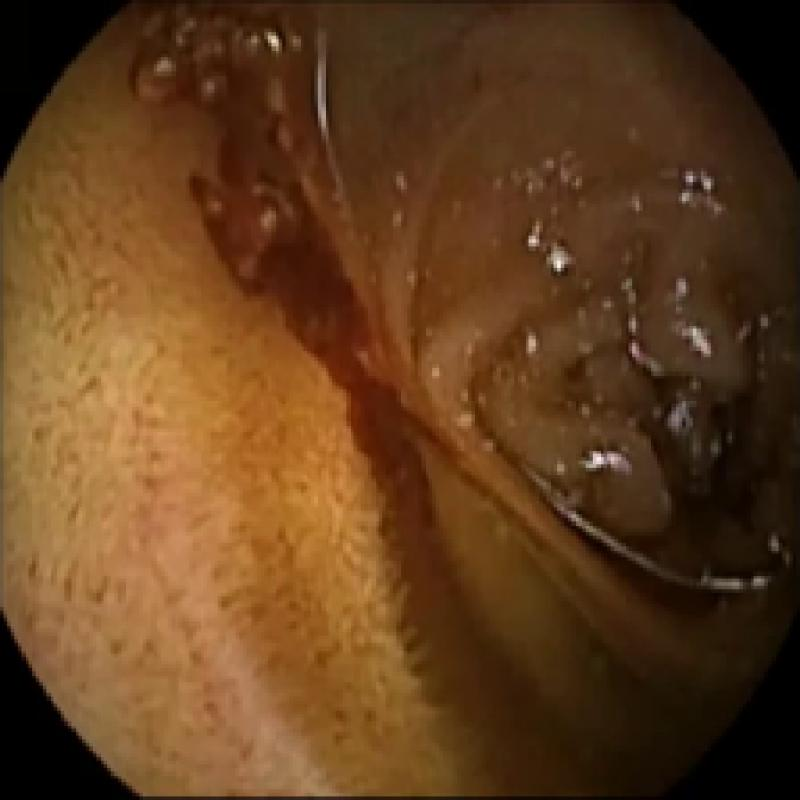bleeding: (189, 107, 425, 475)
